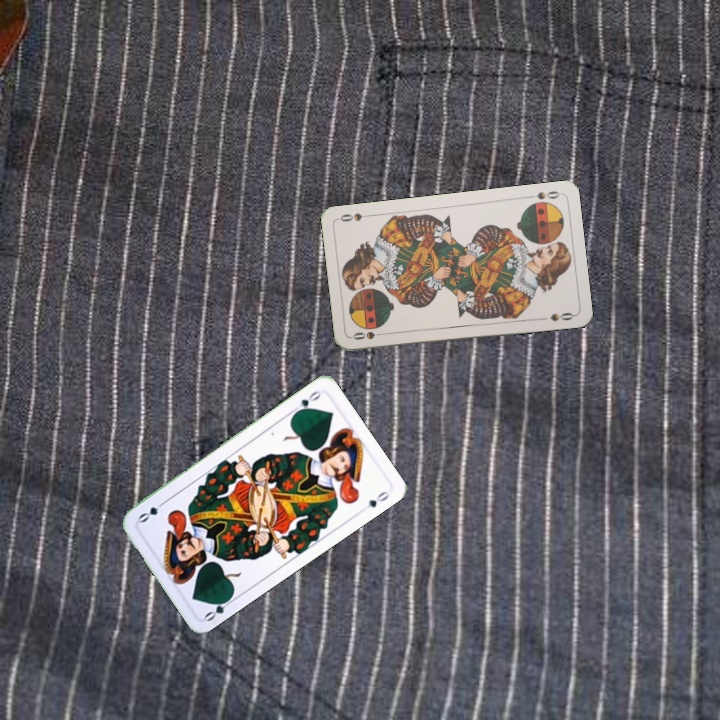GO: (200, 592, 237, 624), (288, 386, 324, 417)
SO: (348, 327, 389, 343), (523, 187, 562, 202)
